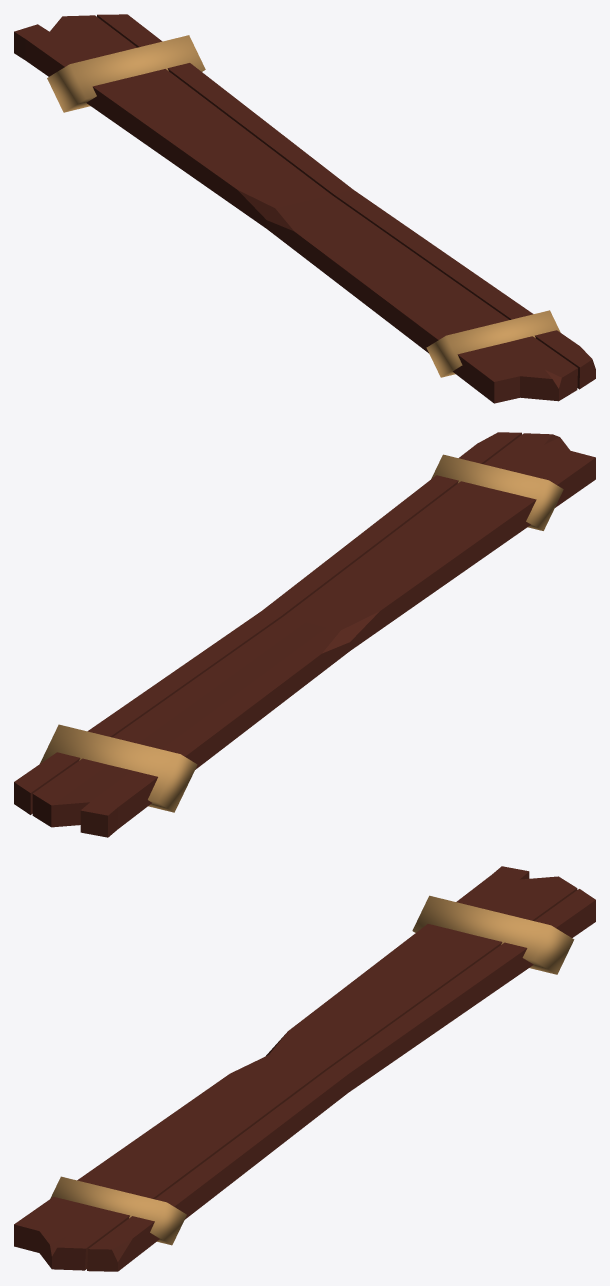
Rendered from SM_Bridge_Plank_A.fbx.
3 renders of one model, top to bottom at view 1: azimuth 30°, elevation 25°; view 2: azimuth 150°, elevation 25°; view 3: azimuth 330°, elevation 25°, orthographic. The views are drawn at different scales.
Parts seen in each view (by area): view 1: SM_Plank_A.001; view 2: SM_Plank_A.001; view 3: SM_Plank_A.001.
Boxes of the visible parts, bbox=[...] form: SM_Plank_A.001: bbox=[14, 14, 595, 403]; SM_Plank_A.001: bbox=[14, 432, 595, 837]; SM_Plank_A.001: bbox=[14, 866, 595, 1271].
Size of the model in its own units: 115 by 829 by 48.85.
